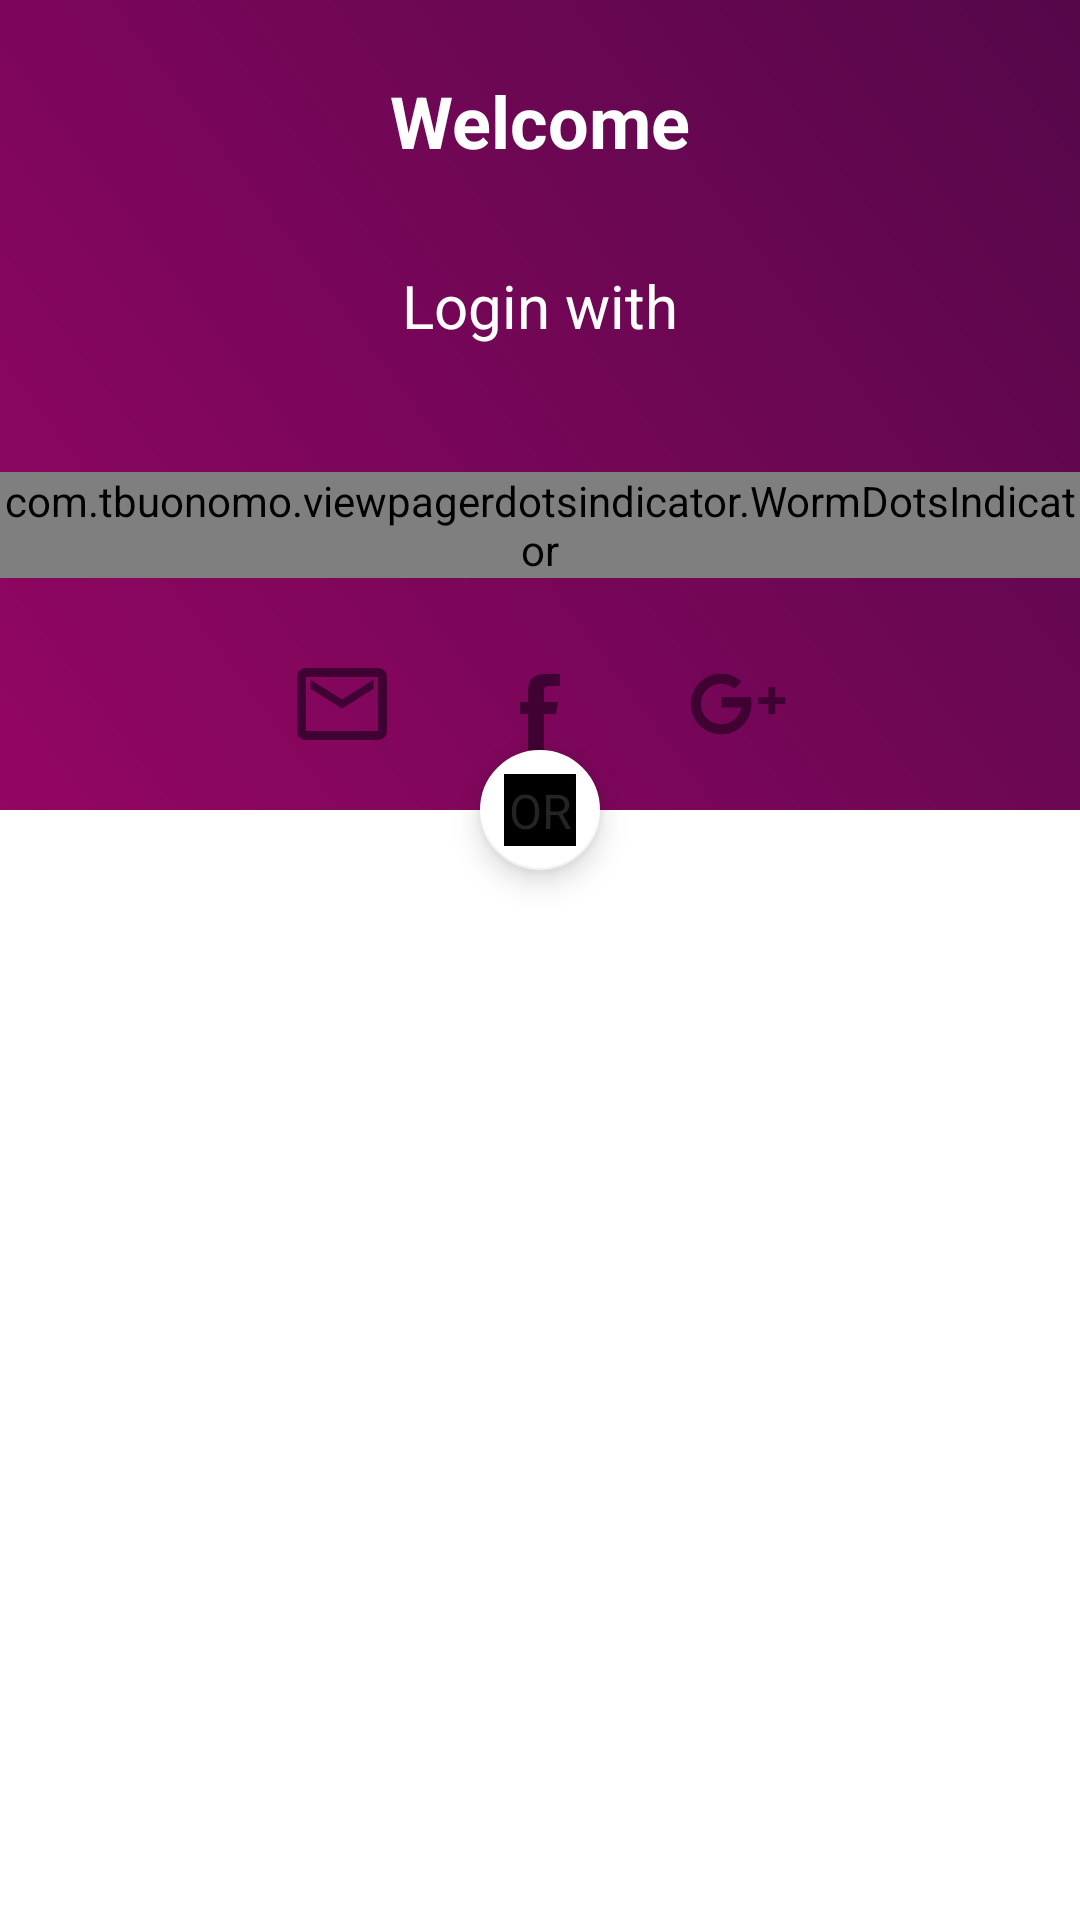

Icon click points for this 1080×1920 phone screenshot, format point (x, y):
message custom: point (342, 704)
